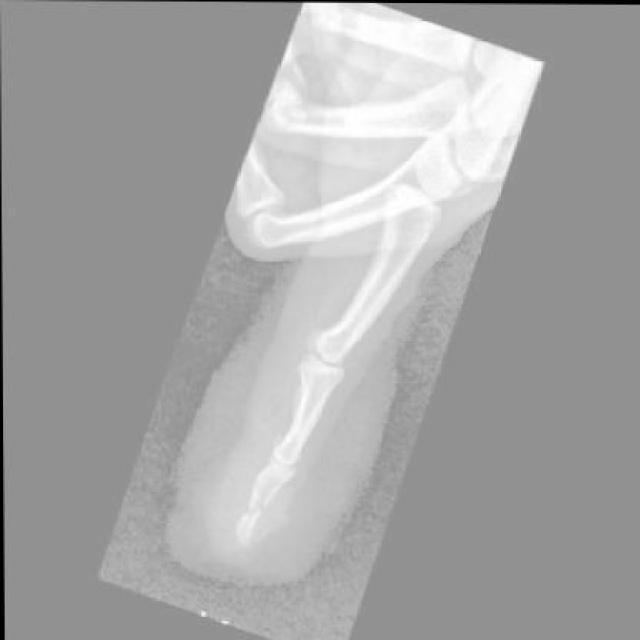Fracture: (237, 488, 274, 532)
